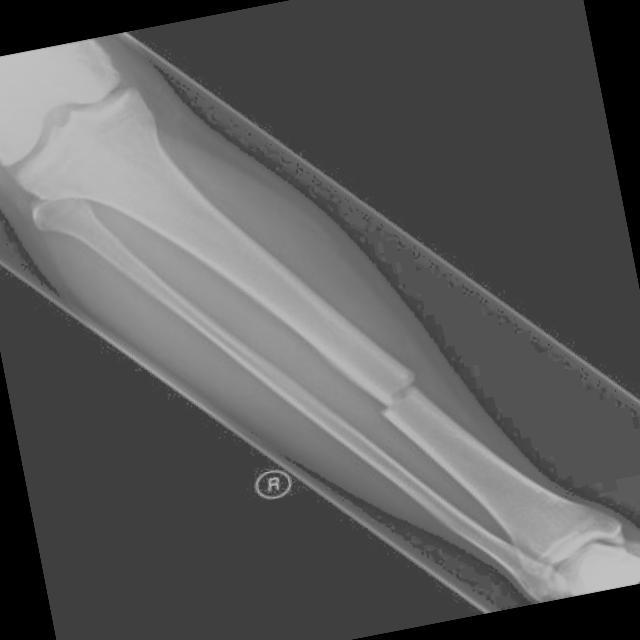Comminuted Fracture: (372, 366, 427, 419)
